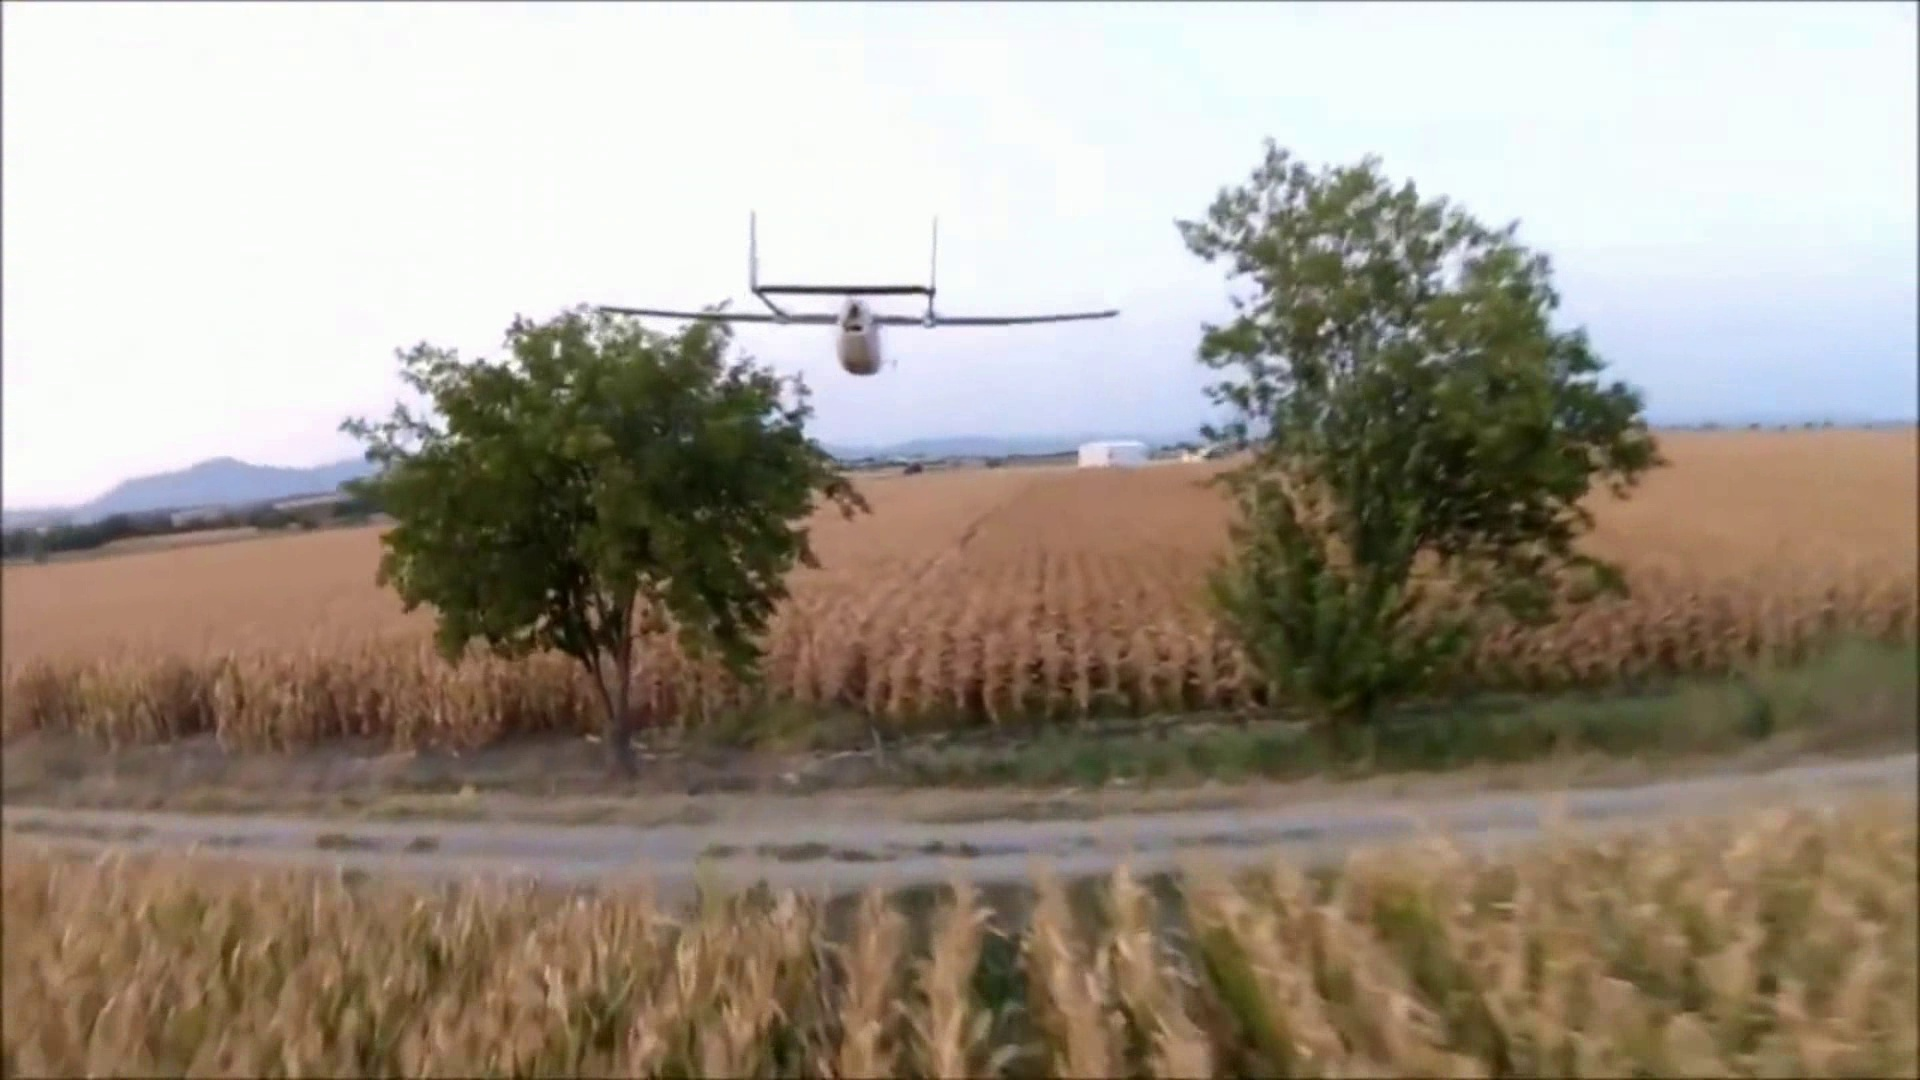airplane: (587, 208, 1123, 378)
